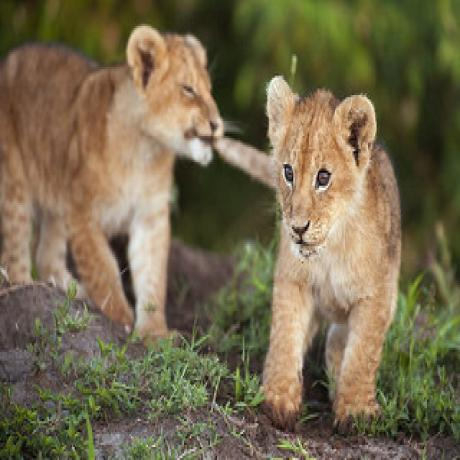Lion: (0, 25, 219, 323), (258, 75, 402, 431)
